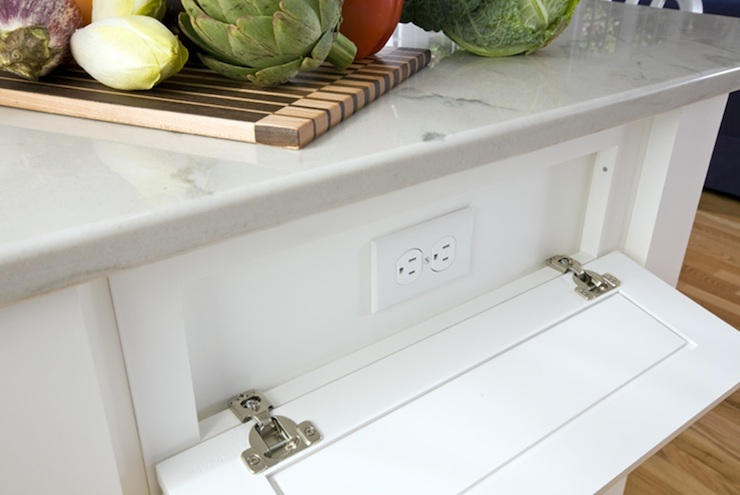outlet: (395, 254, 423, 281), (431, 239, 457, 267)
